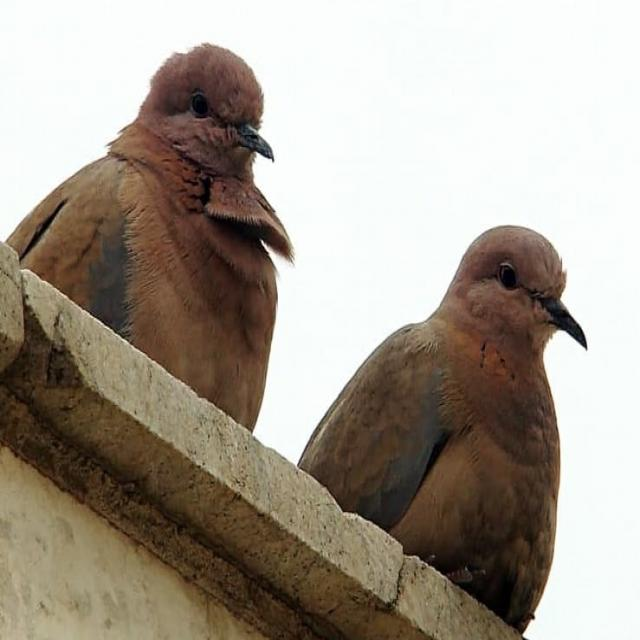bird: (302, 216, 586, 634), (10, 33, 290, 455)
